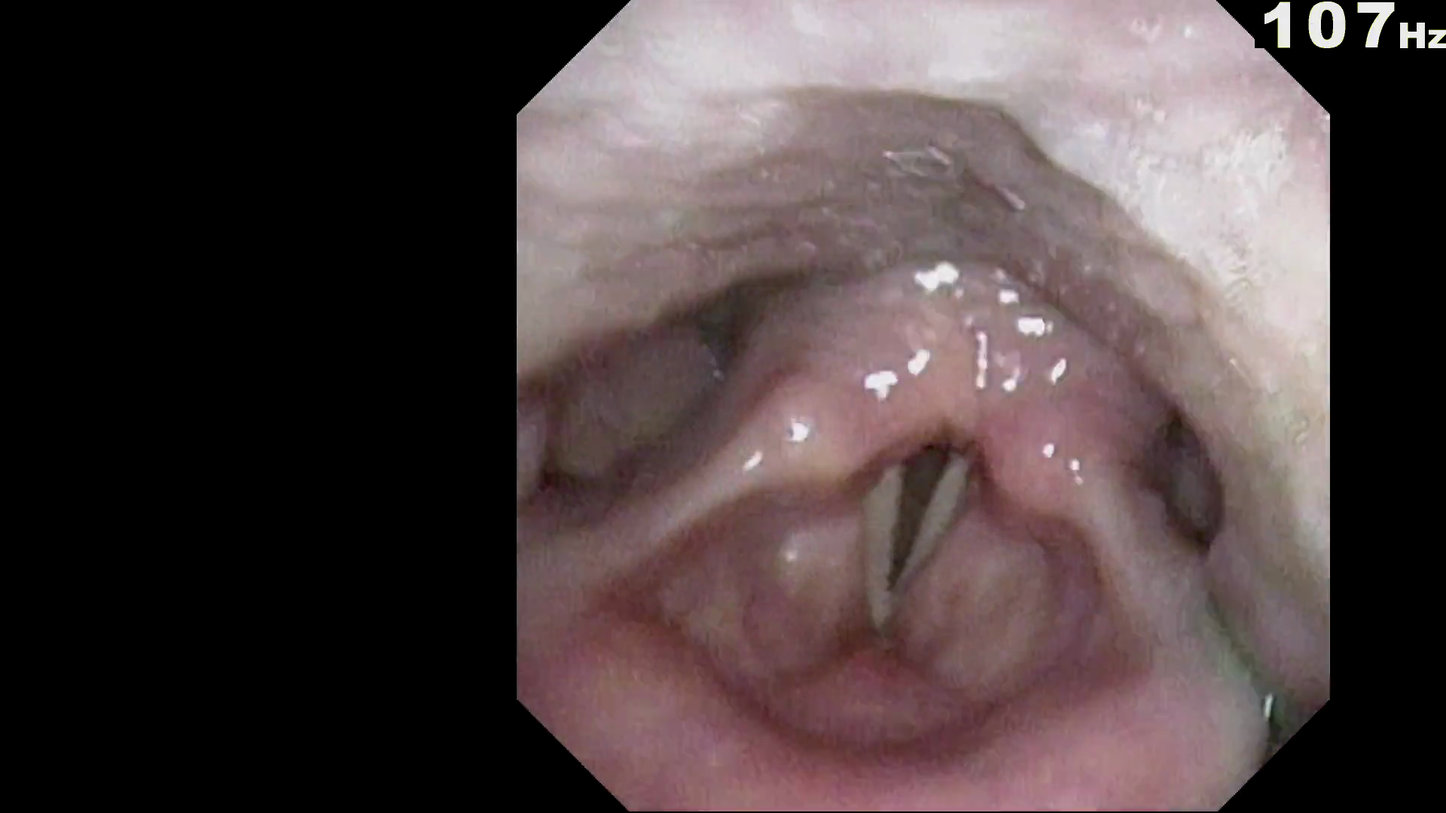trachea: (845, 398, 1002, 618)
